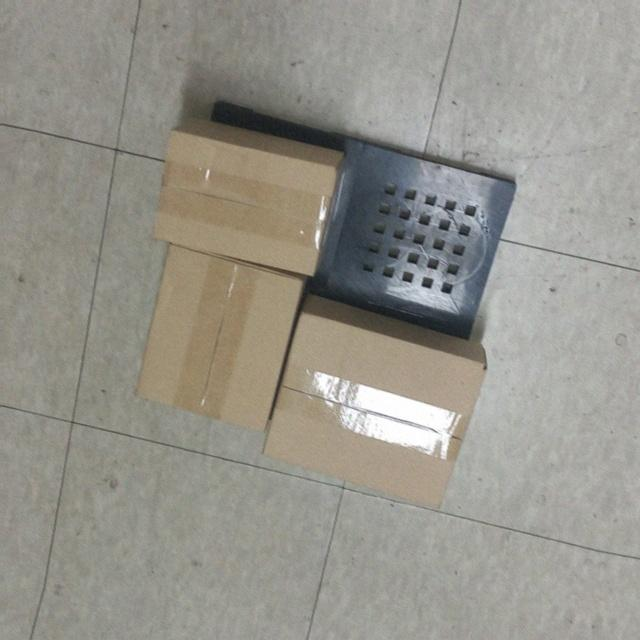box: (249, 289, 492, 515), (138, 104, 354, 282), (131, 238, 304, 432)
